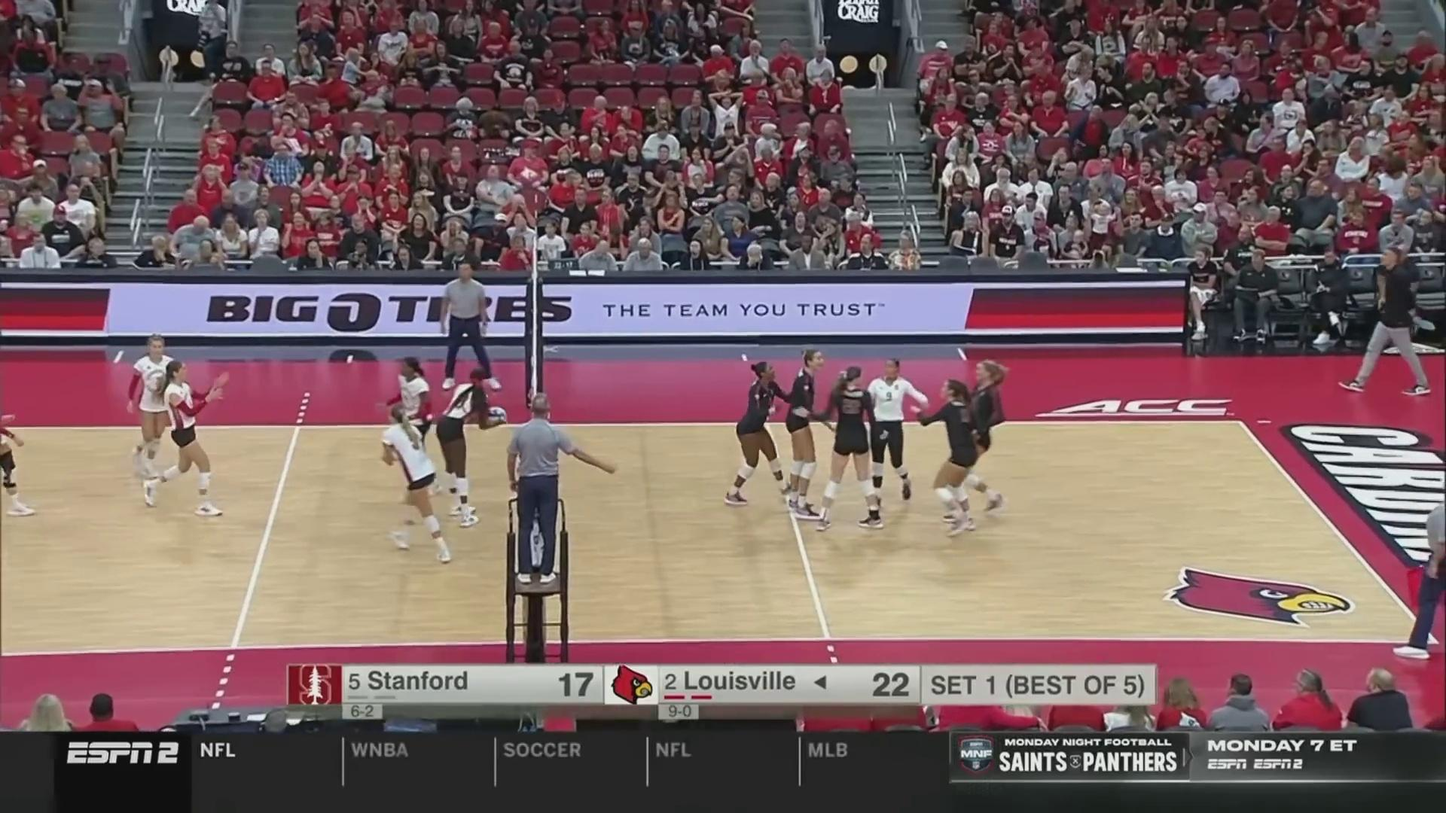player: (143, 359, 229, 515), (810, 366, 890, 533), (854, 363, 924, 522), (383, 404, 453, 562), (438, 369, 505, 529), (731, 362, 799, 509), (950, 361, 1010, 518), (918, 380, 976, 538), (128, 337, 184, 484), (382, 355, 435, 494), (785, 348, 828, 517), (0, 398, 33, 518)
refree: (500, 405, 612, 583), (1396, 491, 1446, 659), (439, 261, 499, 391)
